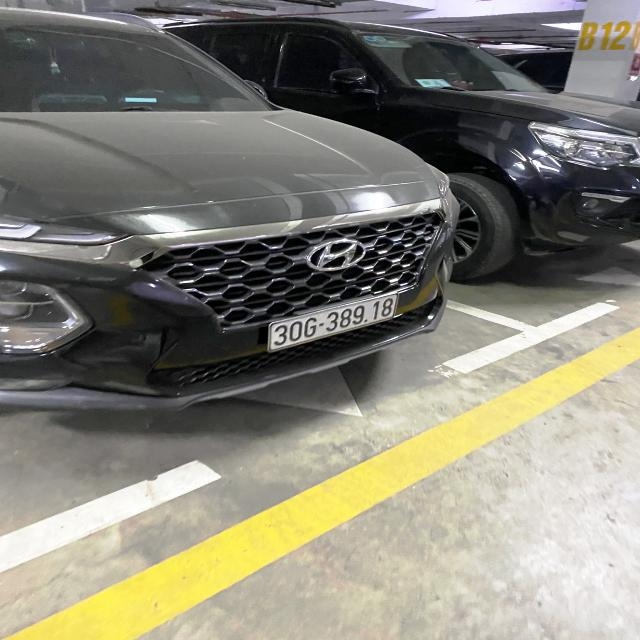license_plate: (264, 284, 406, 358)
